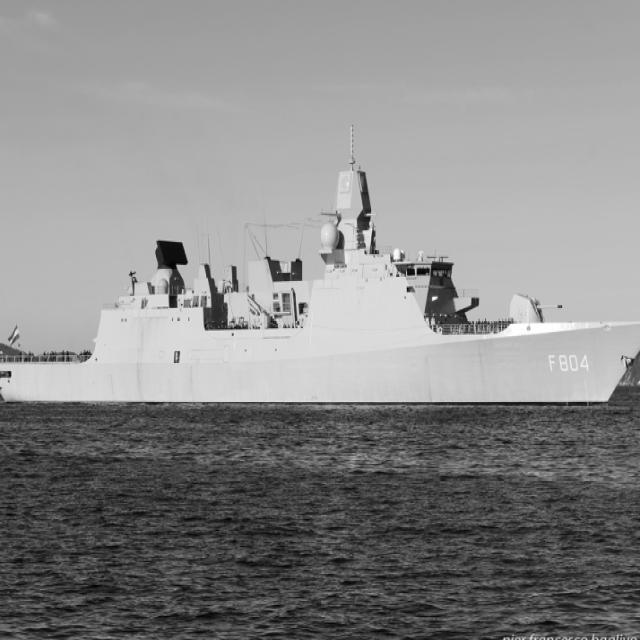Fragata: (1, 122, 640, 410)
